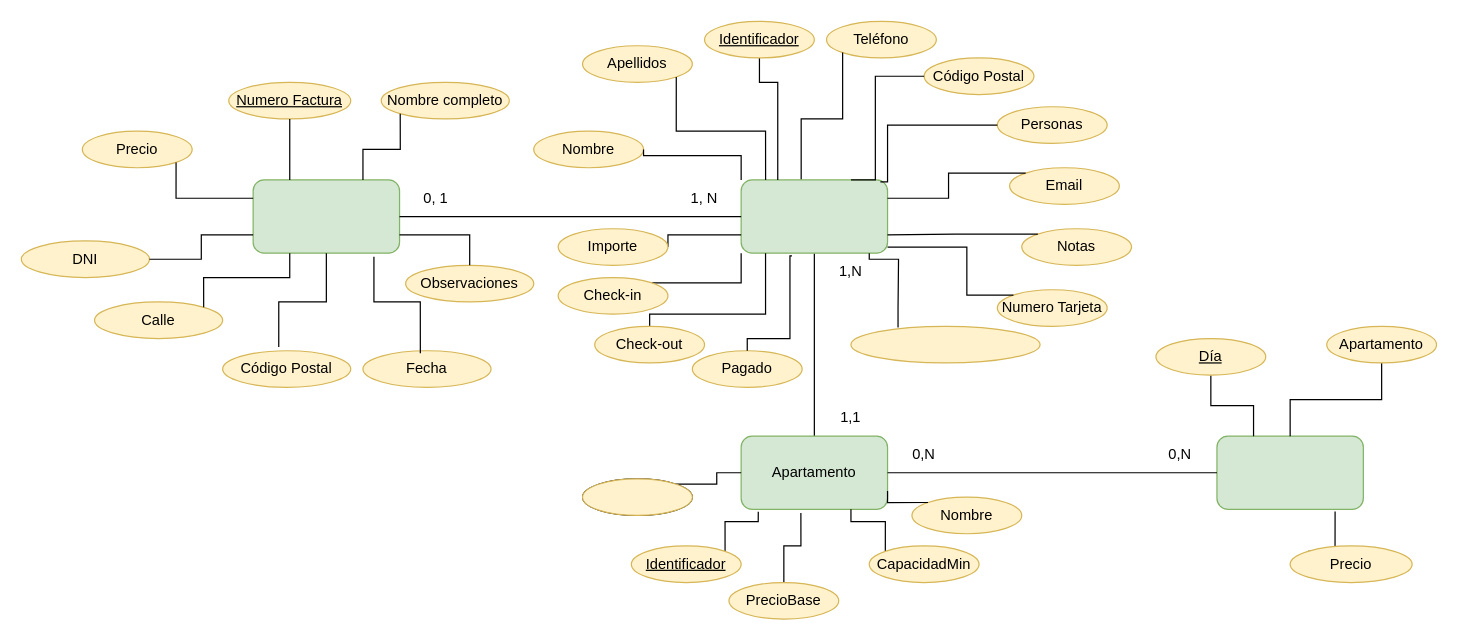
This 1458x641 diagram has some shape labels left out. The shapes that lost their labels are listed below. From the top down, each one's centre as x and y in pixels, then its label:
At point 326,216: "Factura".
At point 814,216: "Reserva".
At point 945,344: "Fecha Caducidad Tarjeta".
At point 1289,472: "Tarifa".
At point 636,496: "CapacidadMax".
